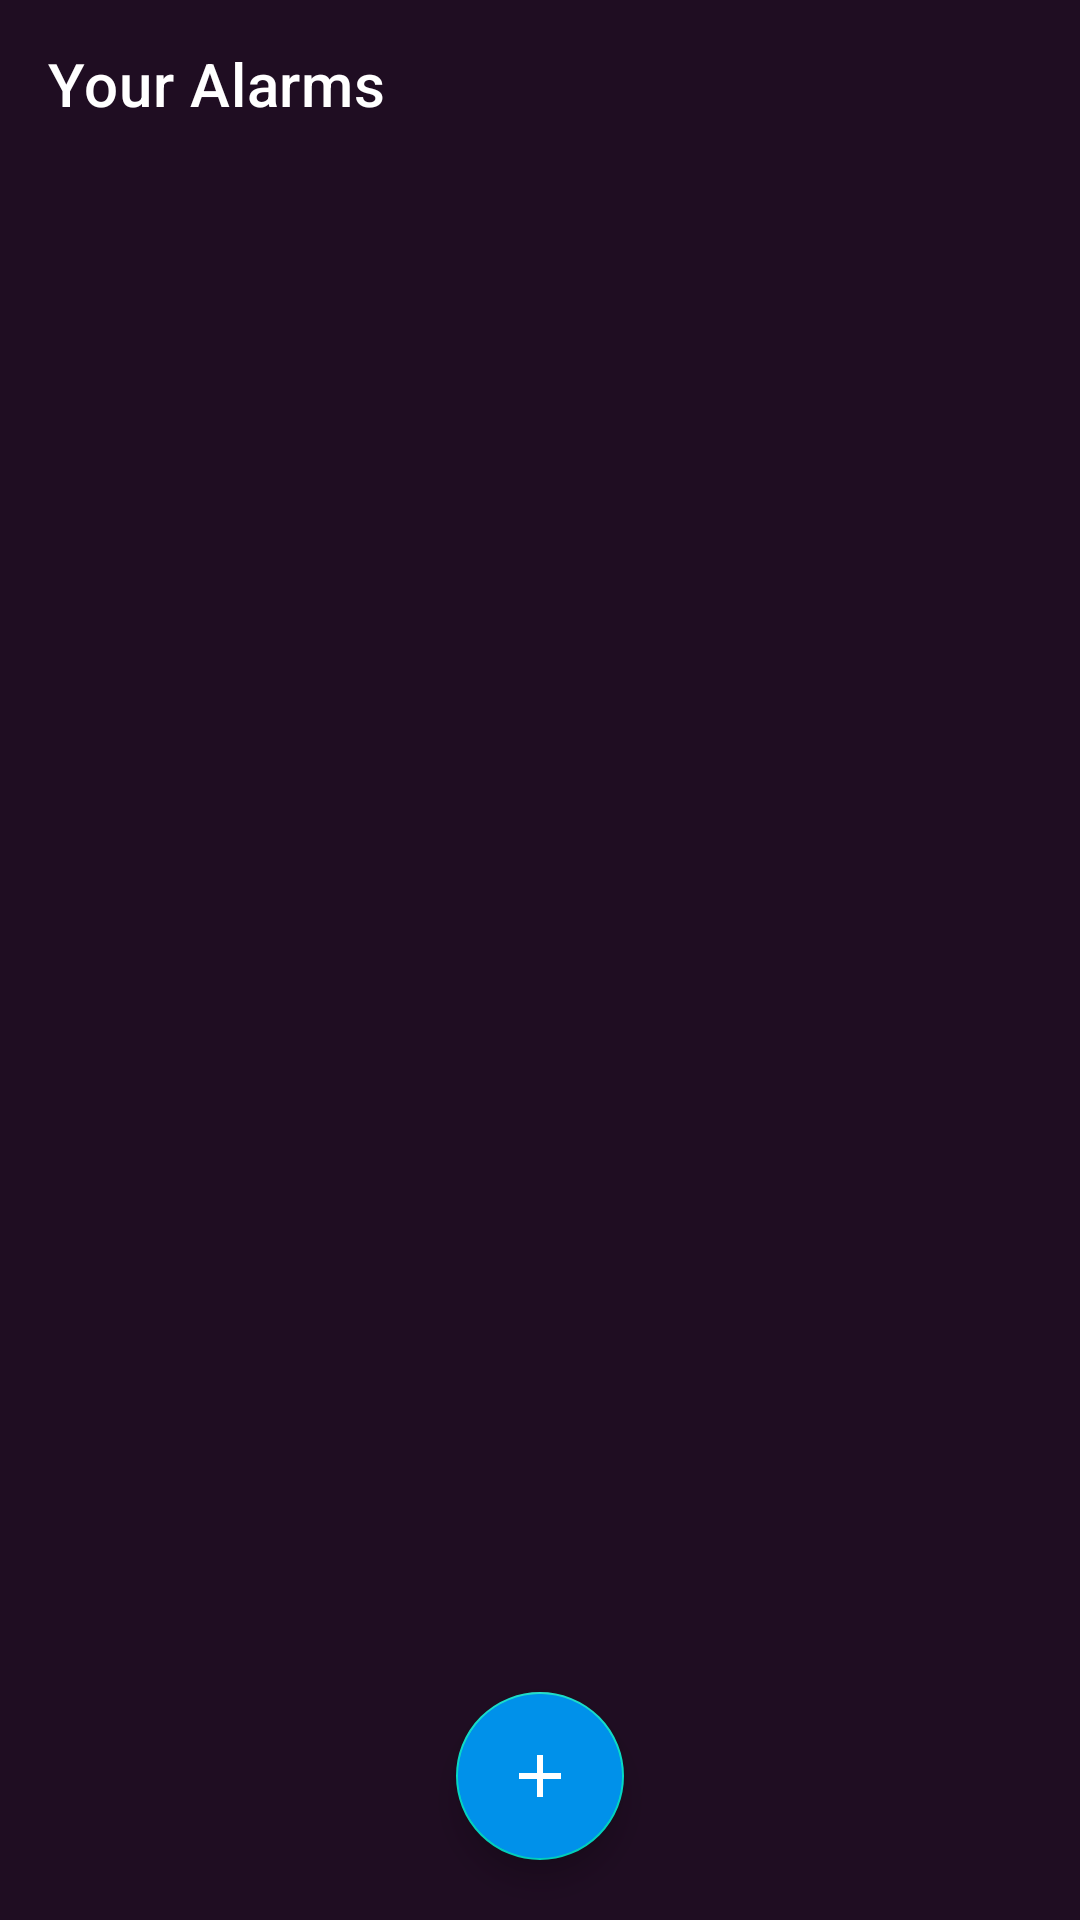

Named icons in this screenshot (1080w x 1920h) and their bounding boxes, bbox=(x1, y1, x2, y2):
plus: bbox=(456, 1692, 624, 1860)
